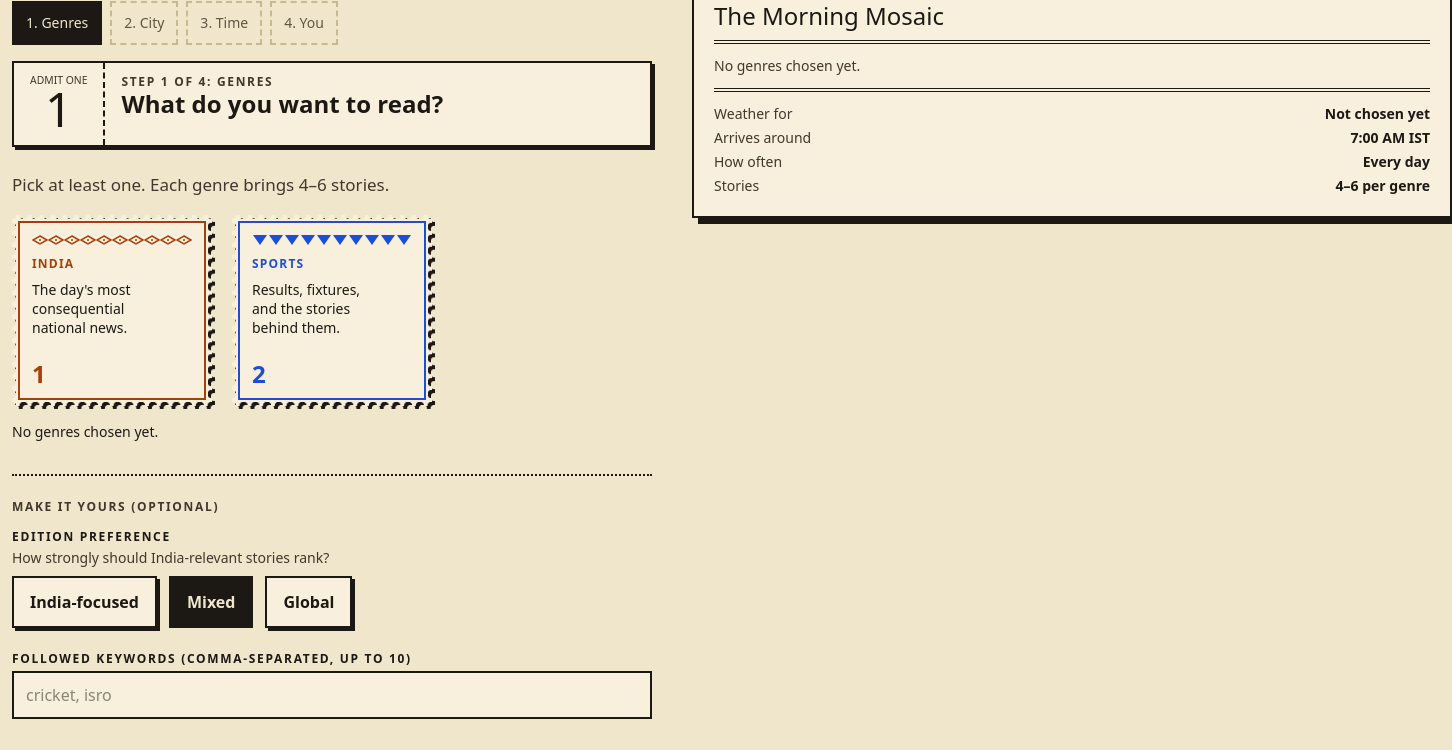
Test: SubscribePage › steps › updates the Your edition panel as choices are made
This screenshot has width=1452, height=750.
Click the checkbox labelled "1 India The day's most consequential national news.". click: (112, 311)
box: [12,216,212,406]
(page scrolled)
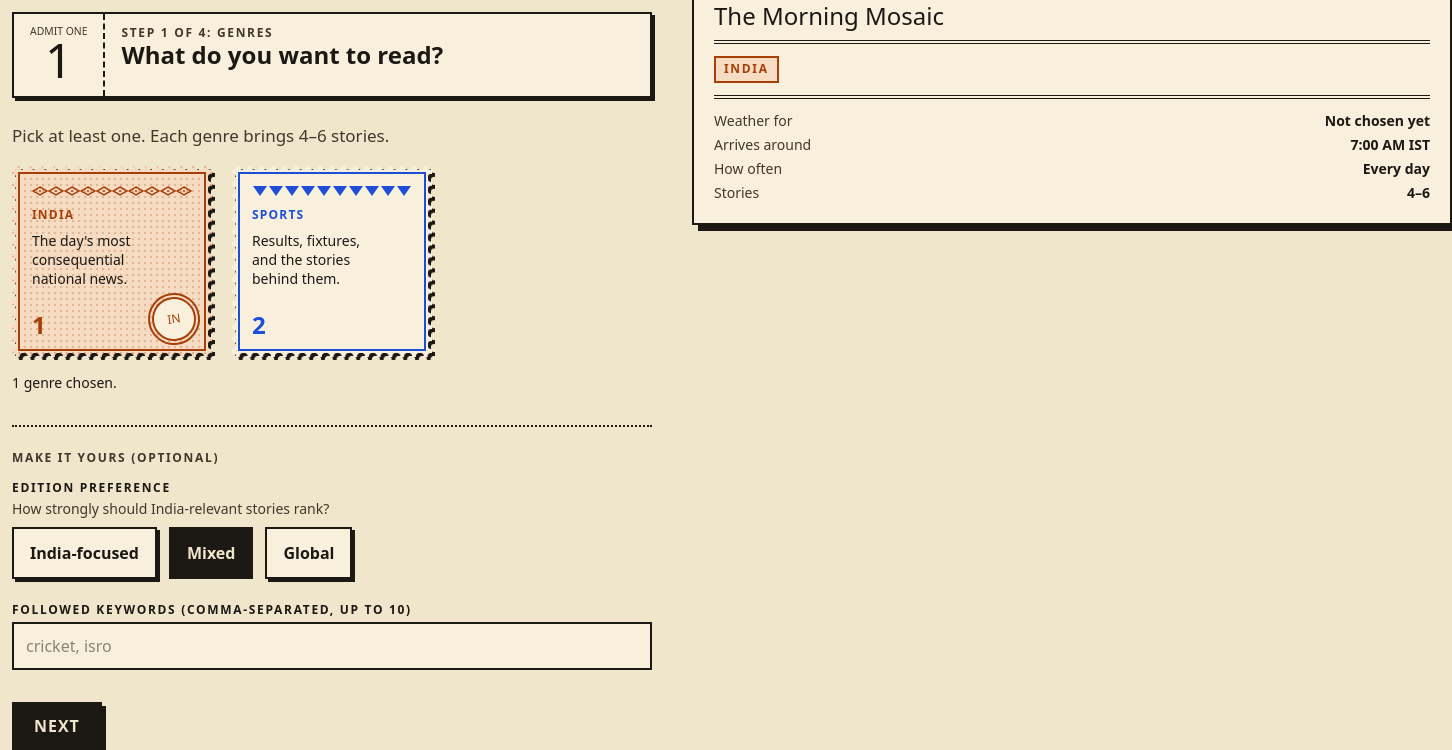
Click the button "Next". click: (57, 726)
box: [12,702,102,749]
(page scrolled)
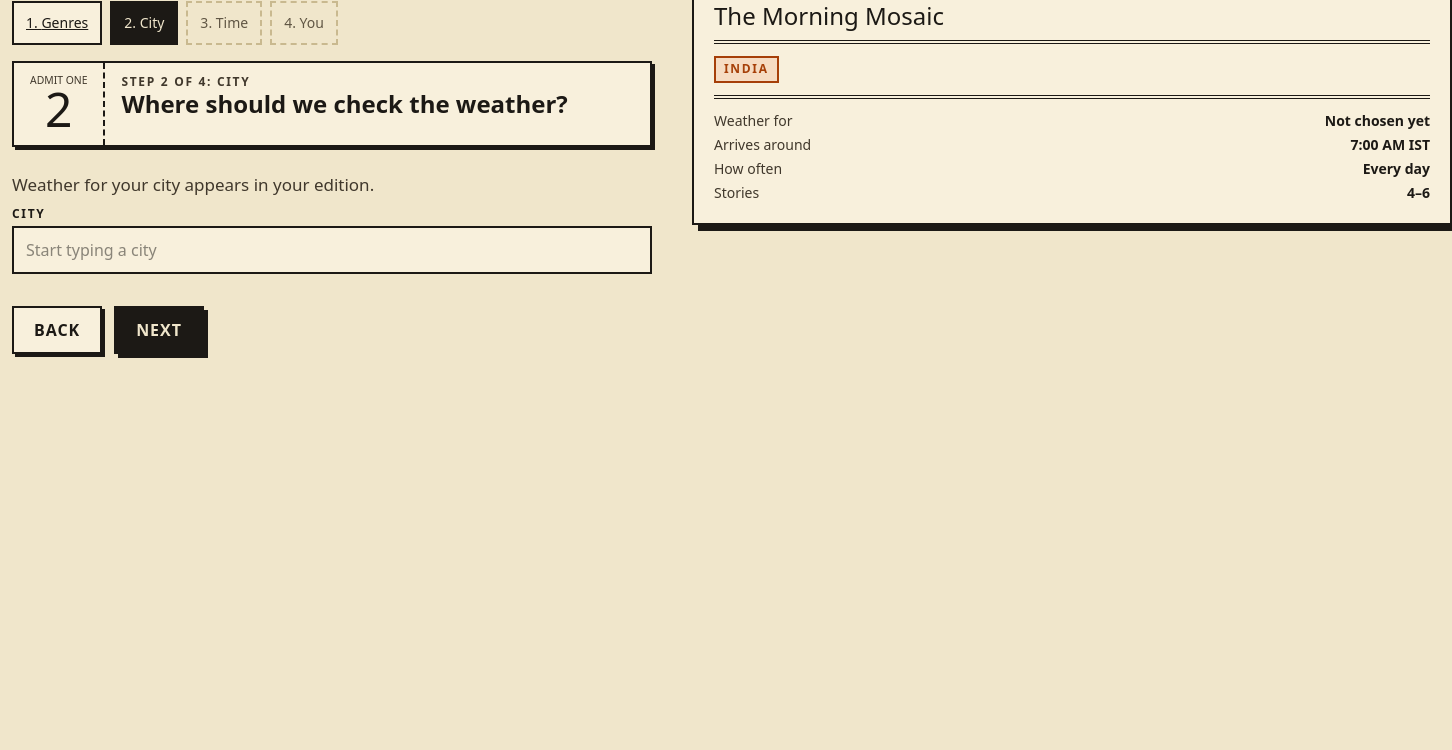
Type "Mum" into the dropdown labelled "City". click: (332, 250)
box: [12,226,652,274]
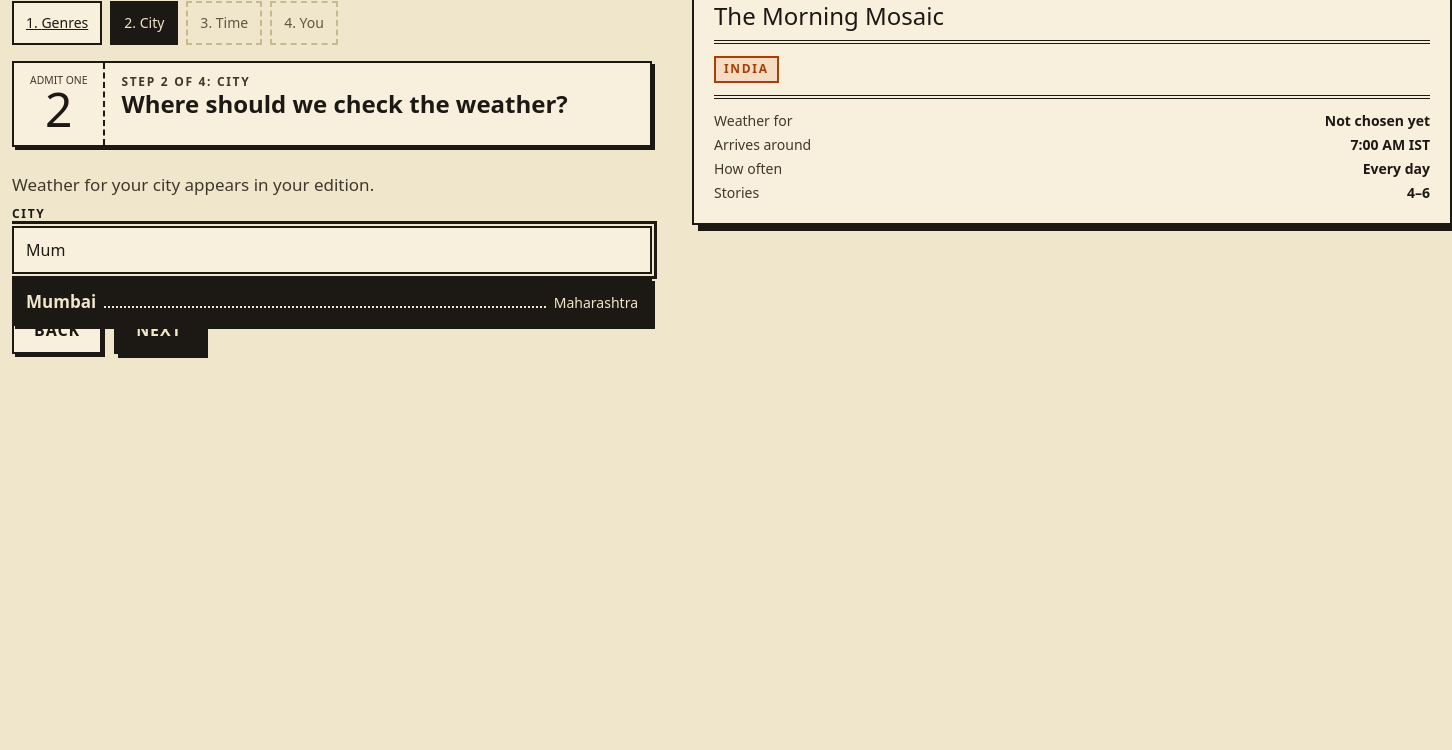
Click the option "Mumbai Maharashtra". click: (61, 301)
box: [14,280,650,324]
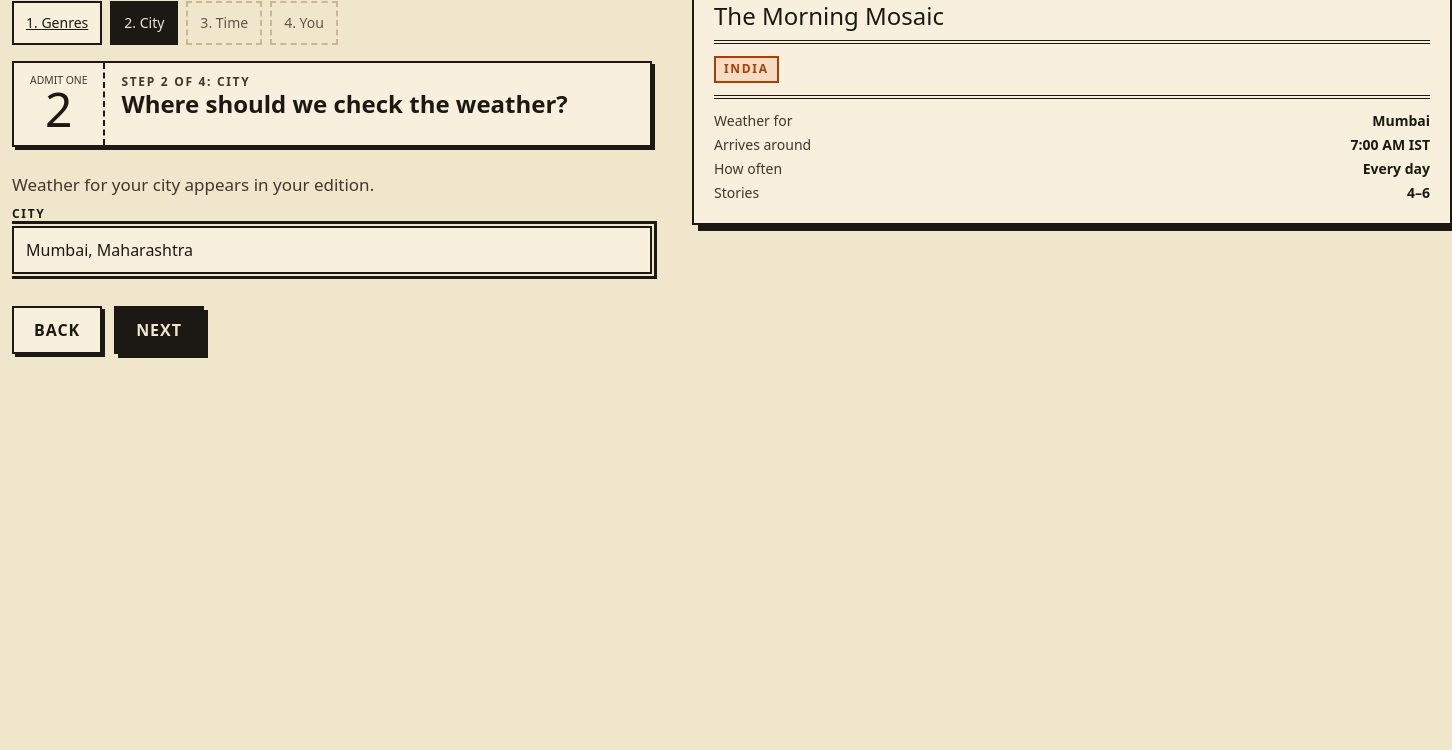
Check: the element "Your edition" shows "7:00 AM IST", box [1351,135,1430,154]
Check: the element "Your edition" shows "India", box [724,60,769,77]
Check: the element "Your edition" shows "Mumbai", box [1372,111,1430,130]
